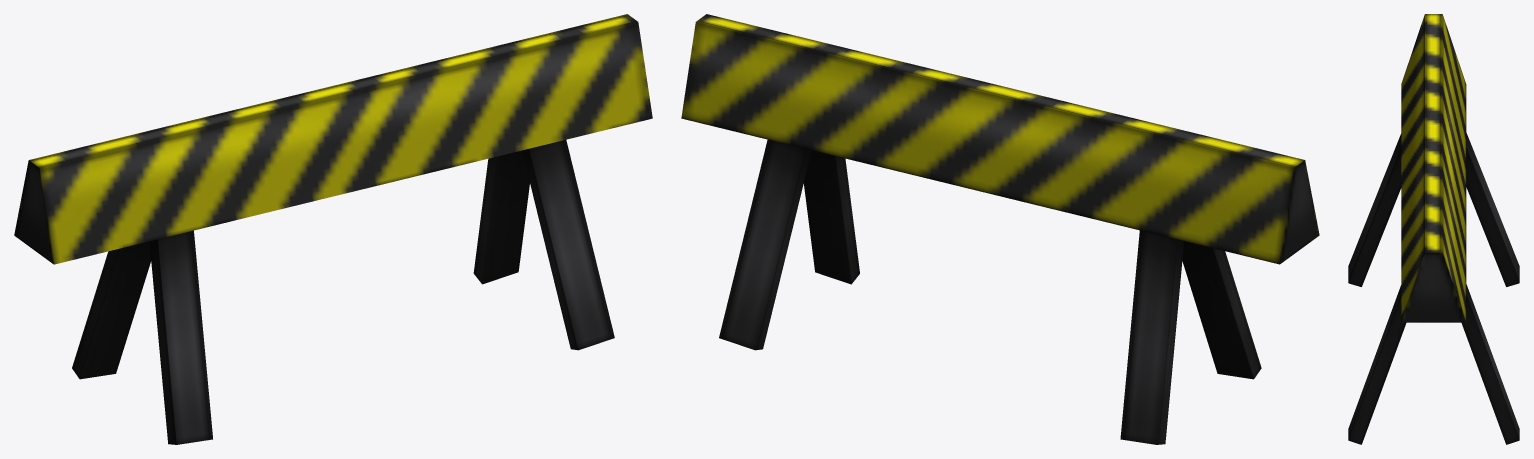
Rendered from barrier_01.FBX.
3 views of the same model, side by side, from view 1: azimuth 30°, elevation 25°; view 2: azimuth 150°, elevation 25°; view 3: azimuth 270°, elevation 25° (orthographic). The views are drawn at different scales.
Parts seen in each view (by area): view 1: barrier; view 2: barrier; view 3: barrier.
Part boxes in pixels (box(x1,y1,x2,y2)): barrier: box(14, 14, 652, 444); barrier: box(681, 14, 1319, 444); barrier: box(1348, 14, 1519, 444).
Size of the model in its own units: 276 by 120 by 83.88.
